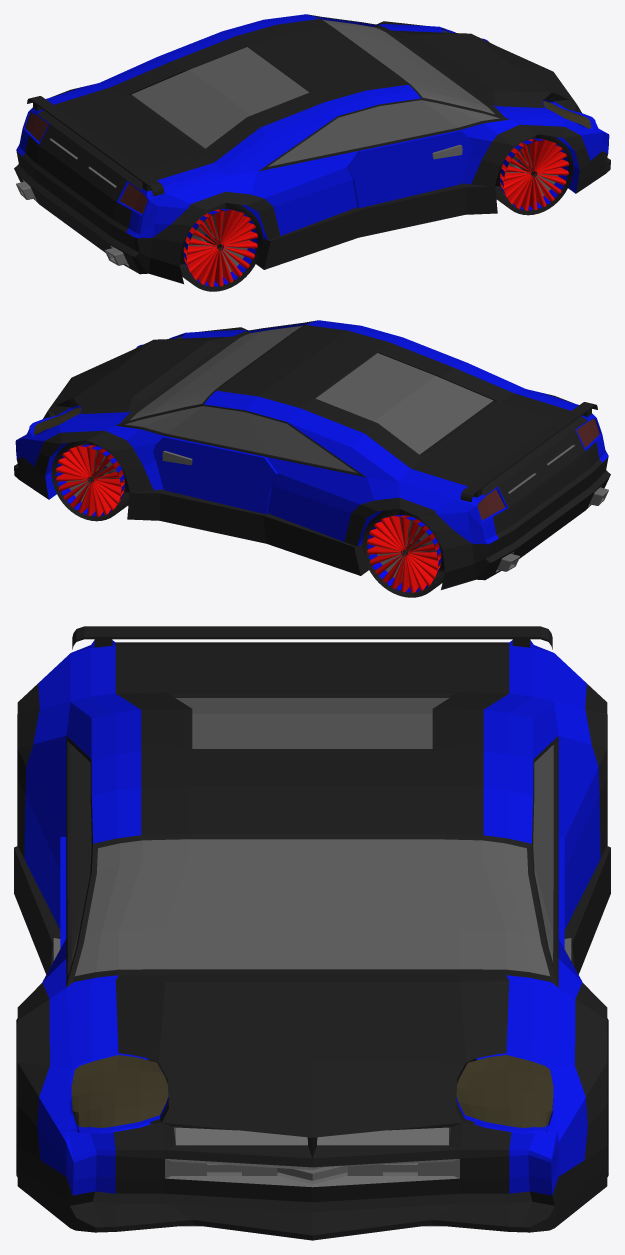
Rendered from SportCar.fbx.
3 renders of one model, top to bottom at view 1: azimuth 30°, elevation 25°; view 2: azimuth 150°, elevation 25°; view 3: azimuth 270°, elevation 25°, orthographic. The views are drawn at different scales.
Visible parts, largest first — view 1: Cube, Circle.002, Circle; view 2: Cube, Circle.003, Circle.001; view 3: Cube.
Boxes of the visible parts, bbox=[...] form: Cube: bbox=[14, 14, 610, 283]; Circle.002: bbox=[179, 203, 262, 291]; Circle: bbox=[495, 134, 573, 215]; Cube: bbox=[14, 320, 610, 589]; Circle.003: bbox=[362, 509, 445, 597]; Circle.001: bbox=[51, 440, 129, 521]; Cube: bbox=[14, 626, 610, 1240].
Size of the model in its own units: 445 by 115 by 242.
